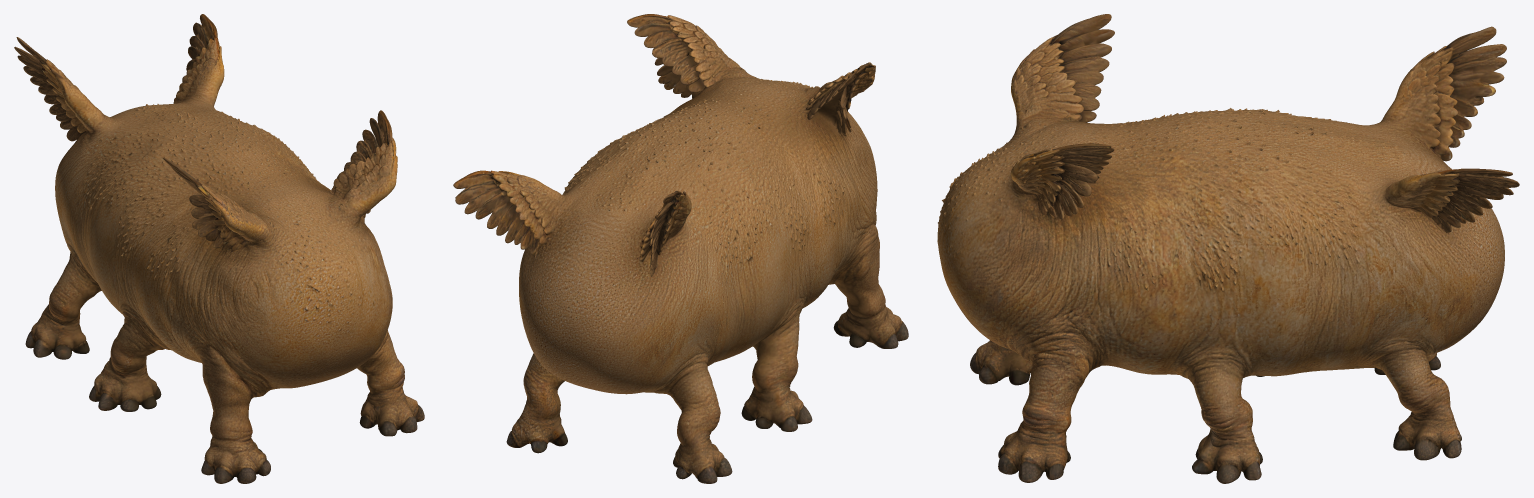
The model's file is dijiang.glb.
3 views of the same model, side by side, from view 1: azimuth 30°, elevation 25°; view 2: azimuth 150°, elevation 25°; view 3: azimuth 270°, elevation 25° (orthographic). The views are drawn at different scales.
Visible parts, largest first — view 1: tripo_node_420c071e-9f5a-4e9a-9a5e-994fa39df7a1; view 2: tripo_node_420c071e-9f5a-4e9a-9a5e-994fa39df7a1; view 3: tripo_node_420c071e-9f5a-4e9a-9a5e-994fa39df7a1.
Part boxes in pixels (x1,y1,x2,y2): tripo_node_420c071e-9f5a-4e9a-9a5e-994fa39df7a1: [14, 14, 424, 483]; tripo_node_420c071e-9f5a-4e9a-9a5e-994fa39df7a1: [453, 14, 908, 483]; tripo_node_420c071e-9f5a-4e9a-9a5e-994fa39df7a1: [937, 14, 1519, 483].
Bounding box in the file's own units: 0.5438 × 0.6343 × 0.9812.
Materials: 1 (1 with a texture image).
